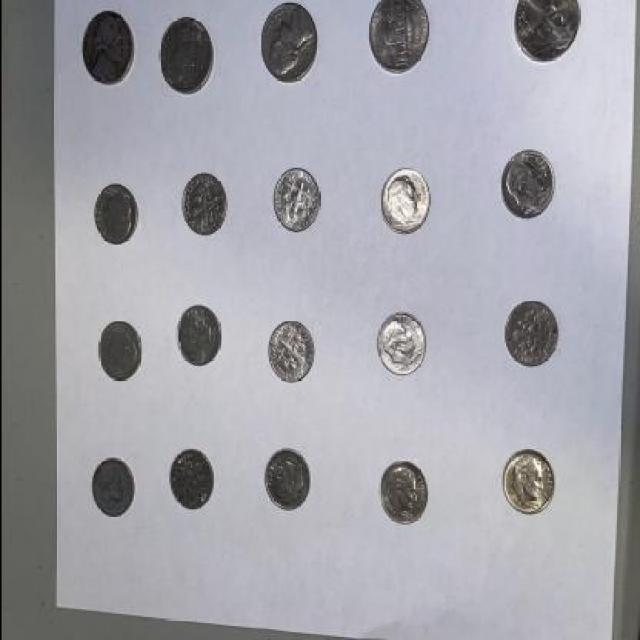Dime: (376, 164, 429, 238), (374, 460, 432, 526), (498, 450, 556, 516), (501, 302, 557, 369), (89, 183, 142, 248), (178, 172, 231, 237), (377, 307, 425, 378), (269, 168, 320, 234), (266, 320, 317, 385), (262, 448, 310, 514), (90, 457, 136, 525), (96, 318, 142, 384), (166, 449, 214, 511), (174, 306, 220, 369)
Nickel: (256, 3, 318, 85), (509, 0, 586, 65), (366, 3, 431, 79), (497, 142, 555, 222), (78, 11, 137, 88), (157, 15, 212, 97)
